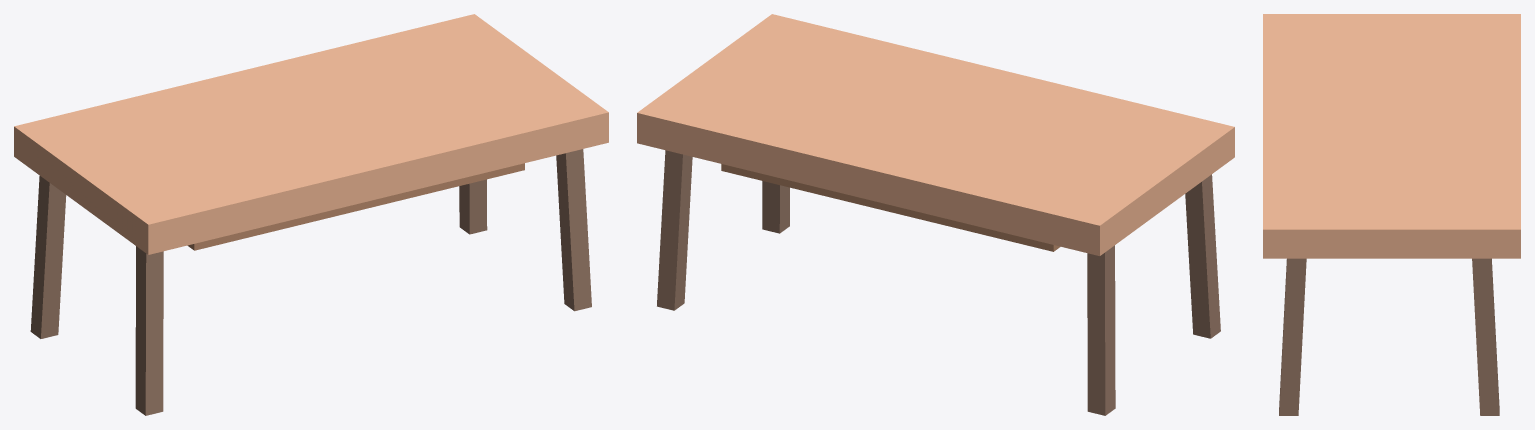
Rendered from table.fbx.
3 views of the same model, side by side, from view 1: azimuth 30°, elevation 25°; view 2: azimuth 150°, elevation 25°; view 3: azimuth 270°, elevation 25° (orthographic). The views are drawn at different scales.
Visible parts, largest first — view 1: Cube.003; view 2: Cube.003; view 3: Cube.003.
Part boxes in pixels (x1=…): Cube.003: x1=14, y1=14, x2=608, y2=415; Cube.003: x1=637, y1=14, x2=1234, y2=415; Cube.003: x1=1263, y1=14, x2=1520, y2=415.
Size of the model in its own units: 487 by 201 by 246.
